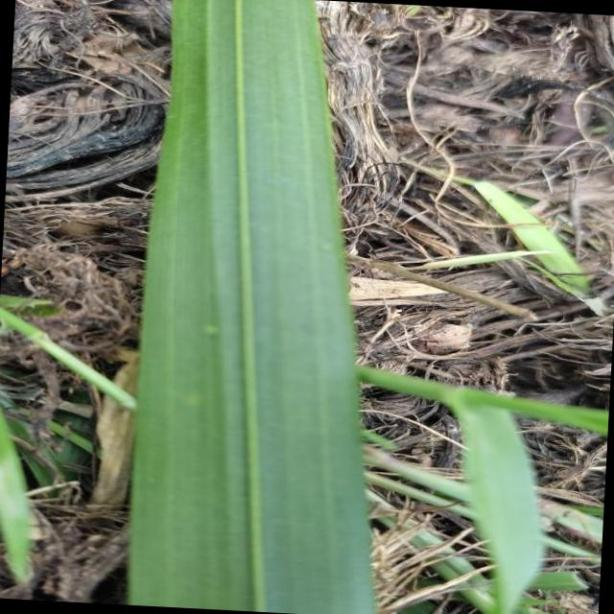Healthy: (126, 0, 371, 614)
